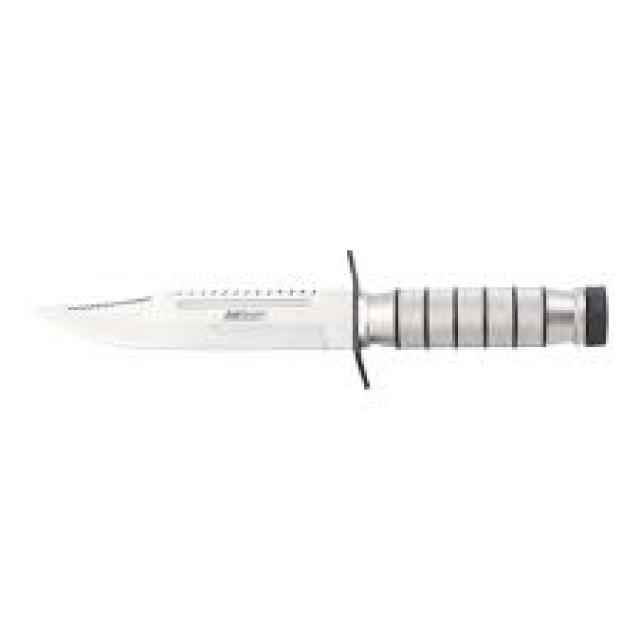knife: (39, 243, 618, 396)
